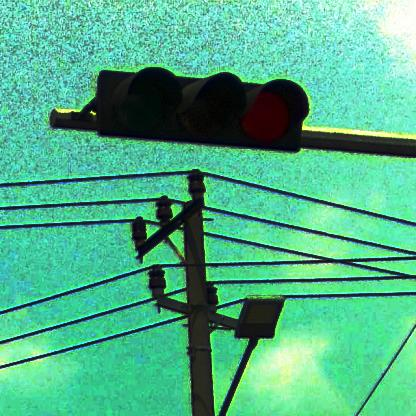Traffic Light -Red-: (96, 70, 310, 153)
